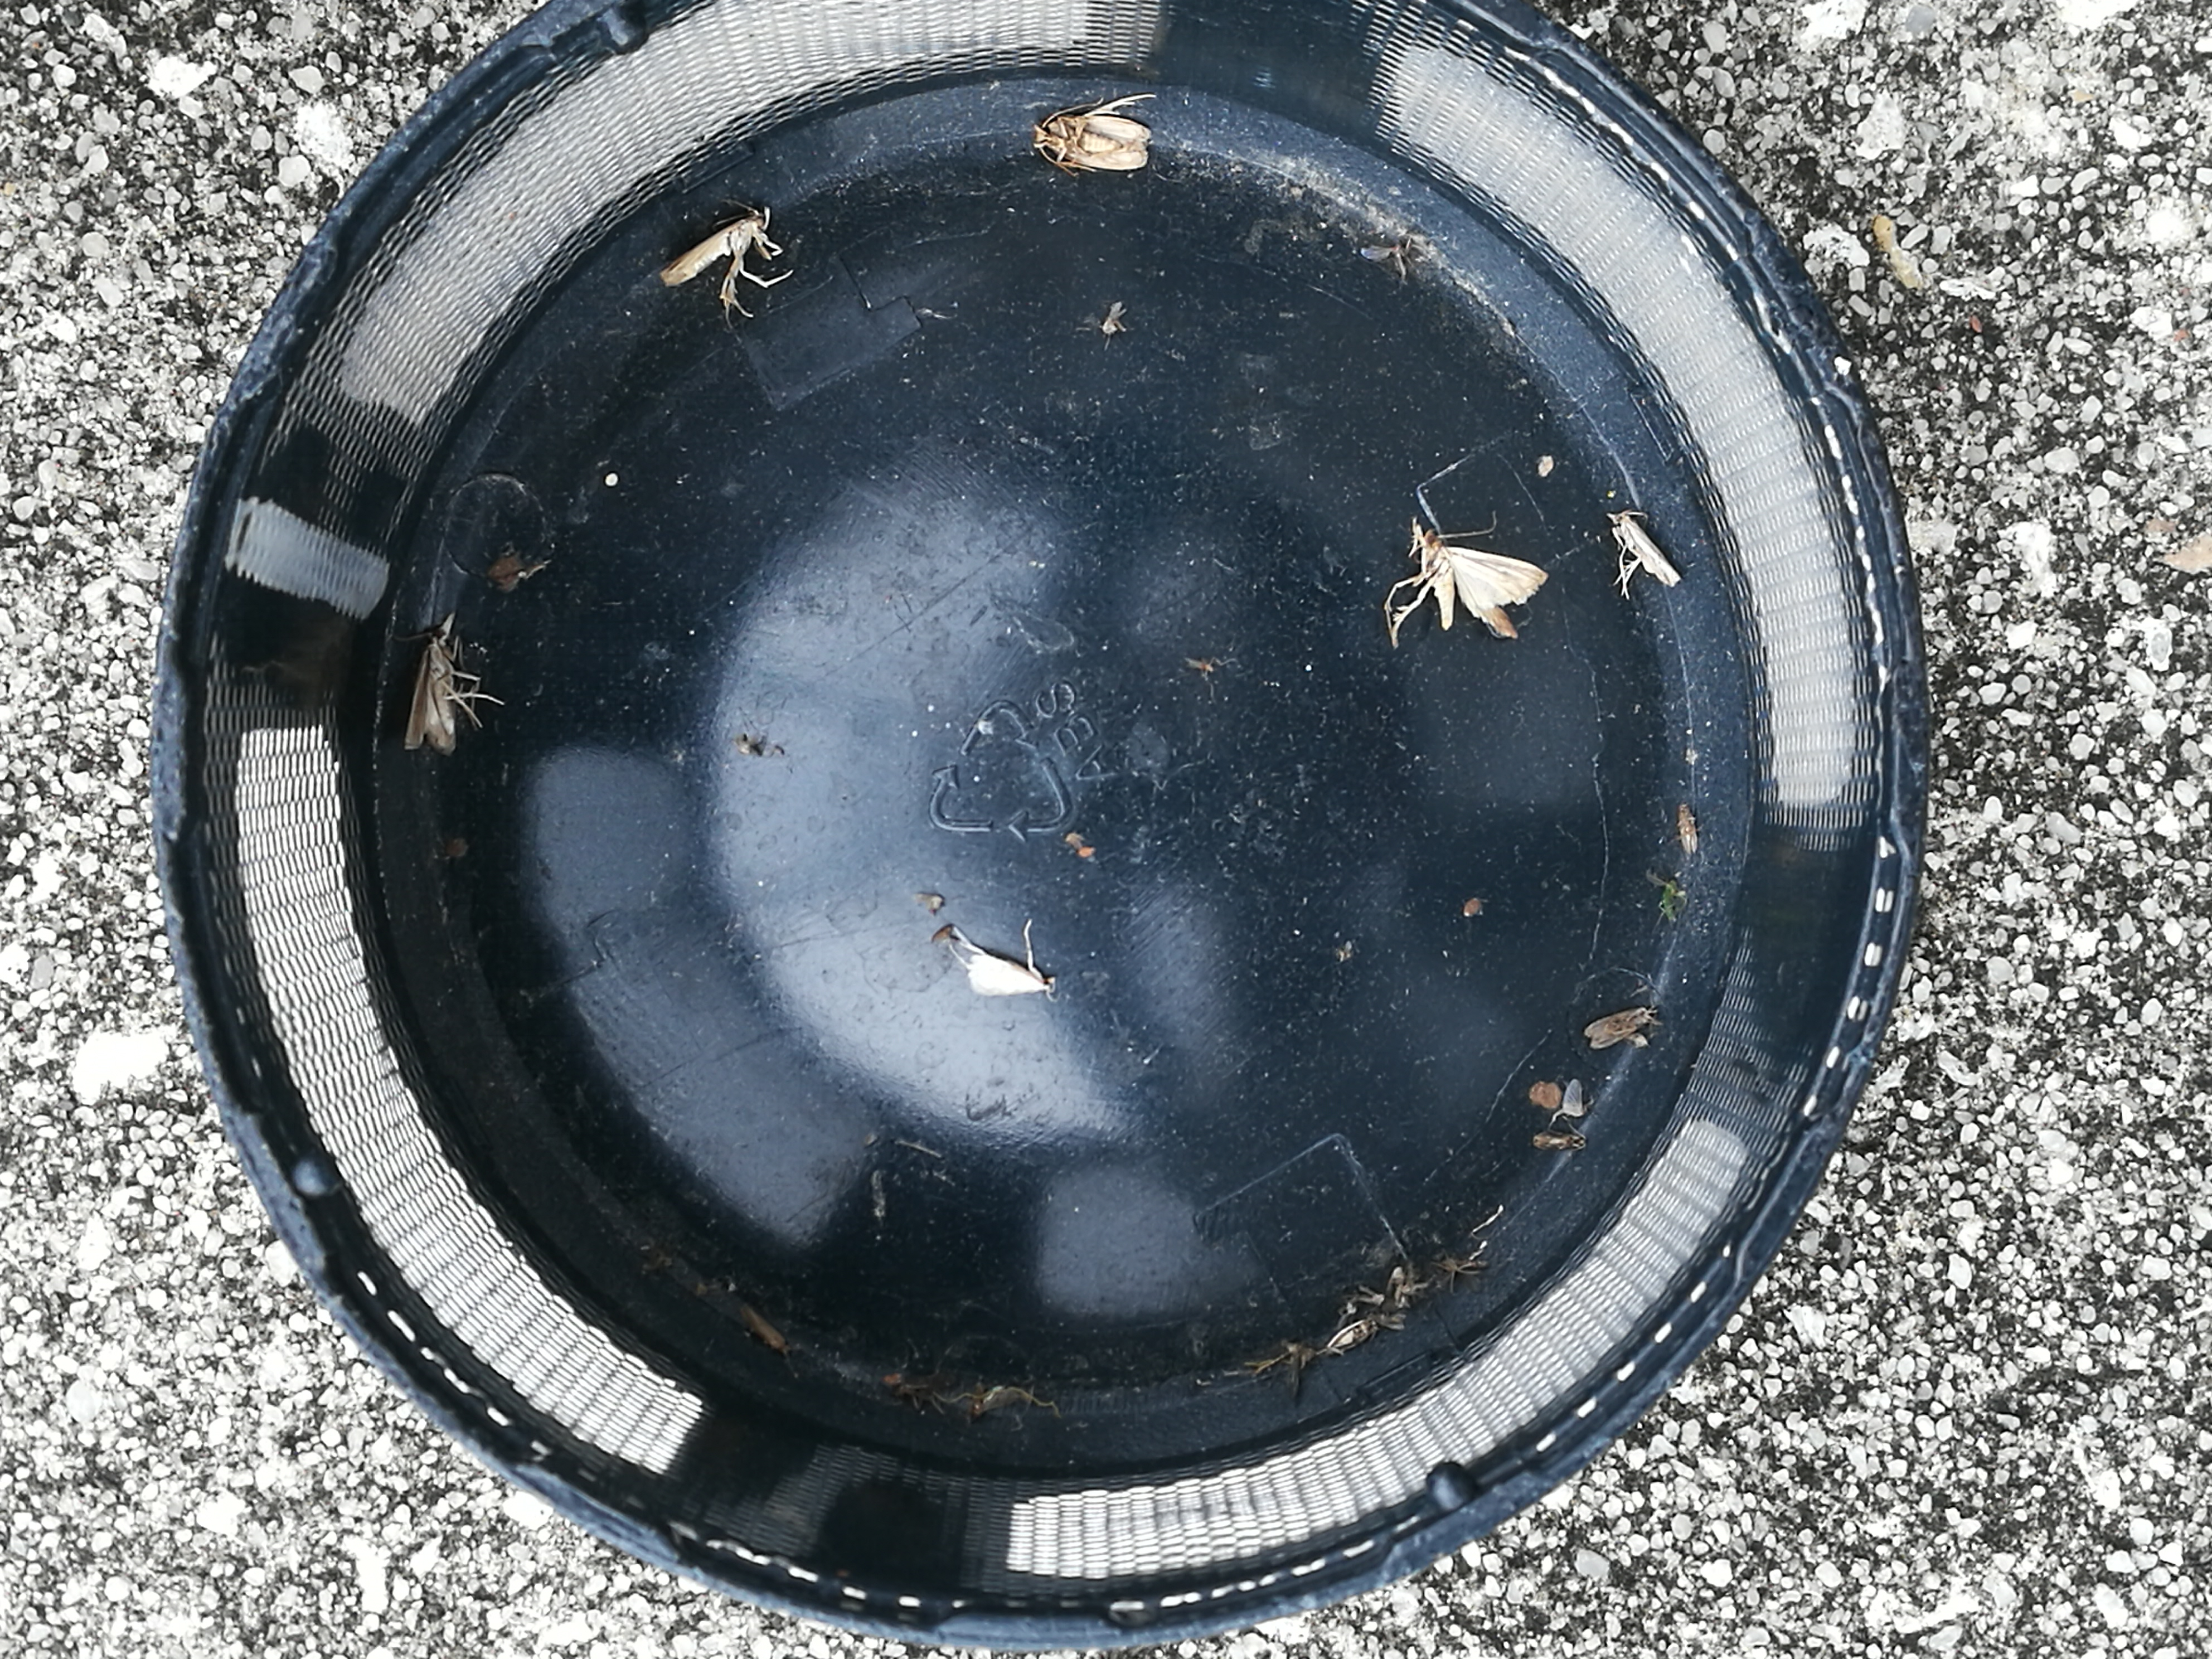mosquito: (662, 214, 772, 284), (1611, 512, 1681, 587), (1585, 1007, 1653, 1049)
moth: (1423, 528, 1548, 629), (406, 615, 460, 755), (1040, 113, 1150, 171), (972, 946, 1052, 993)
